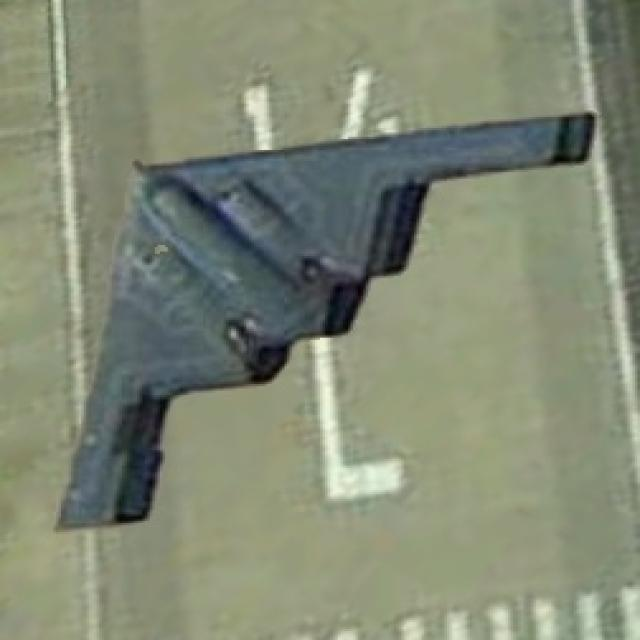B-2_TopDown: (51, 99, 597, 532)
